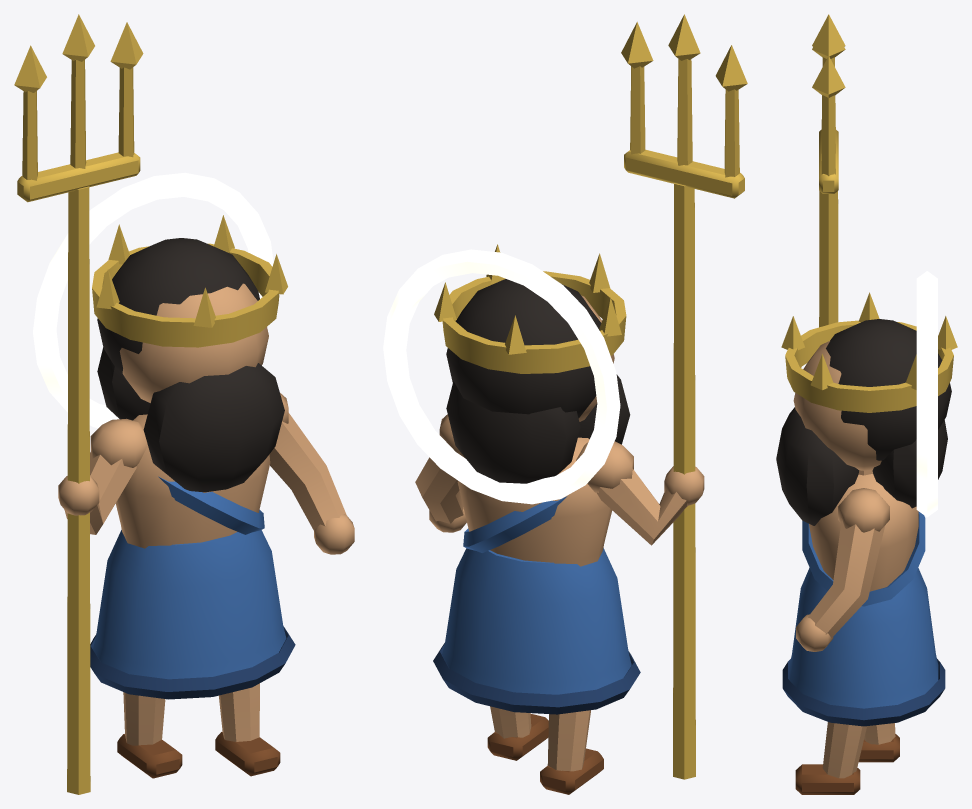
File: godTrident.glb
3 views of the same model, side by side, from view 1: azimuth 30°, elevation 25°; view 2: azimuth 150°, elevation 25°; view 3: azimuth 270°, elevation 25° (orthographic). The views are drawn at different scales.
Parts seen in each view (by area): view 1: godTrident; view 2: godTrident; view 3: godTrident.
Part boxes in pixels (<box>): godTrident: <box>14,14,354,794</box>; godTrident: <box>383,14,747,794</box>; godTrident: <box>776,14,957,794</box>.
Size of the model in its own units: 0.6248 by 1.43 by 0.3357.
